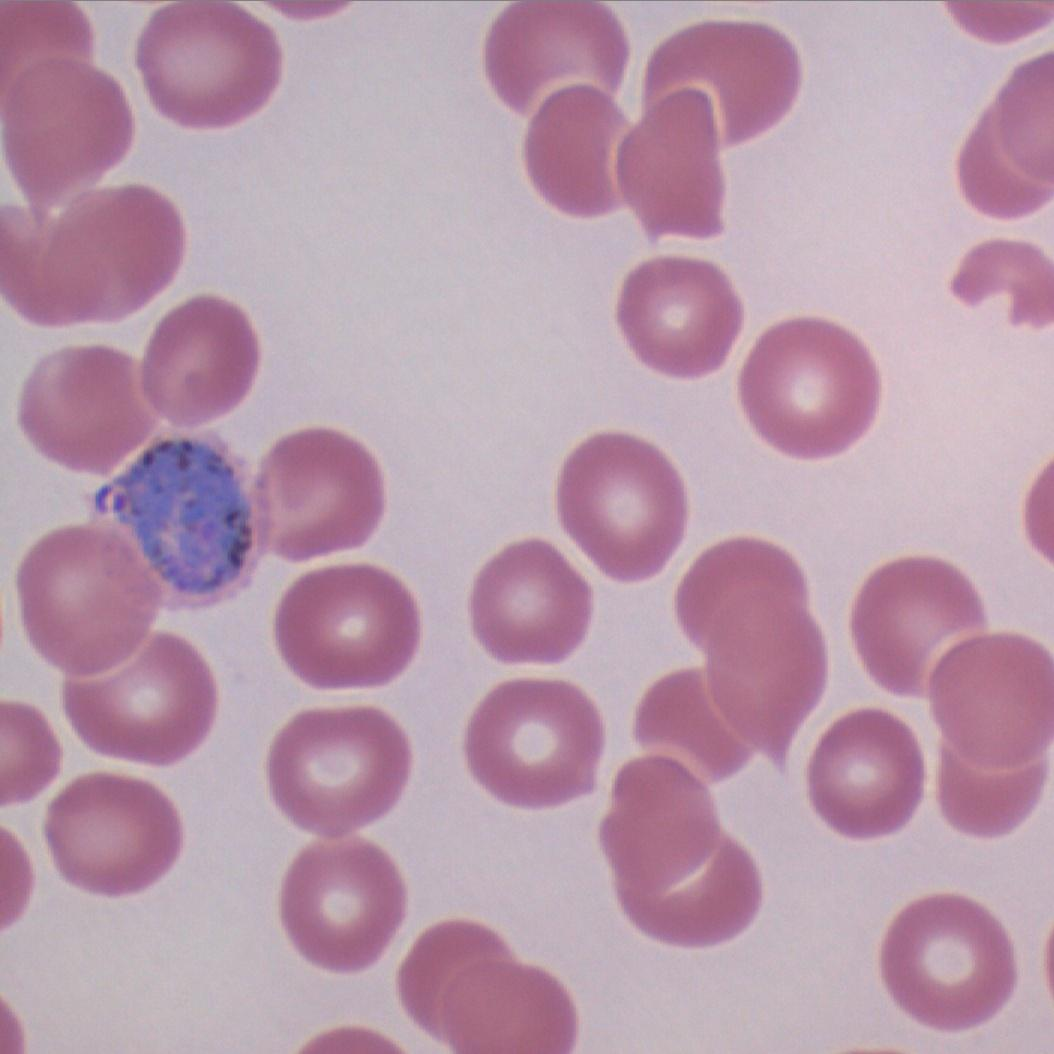Infected: (94, 430, 276, 609)
Uninfected: (18, 524, 168, 679), (648, 18, 804, 152), (552, 432, 690, 583), (32, 184, 184, 319), (60, 628, 213, 759), (854, 552, 993, 692), (274, 558, 420, 689), (880, 892, 1018, 1030), (744, 316, 881, 455), (0, 60, 136, 200), (610, 820, 762, 945), (926, 628, 1054, 775), (270, 708, 410, 839), (468, 678, 607, 809), (256, 426, 386, 564), (278, 832, 404, 974), (142, 0, 280, 128), (482, 0, 632, 115), (22, 340, 151, 473), (526, 82, 648, 217), (804, 708, 927, 841), (596, 758, 722, 886), (44, 778, 184, 892), (468, 536, 591, 665), (616, 254, 741, 379), (140, 294, 260, 422)
